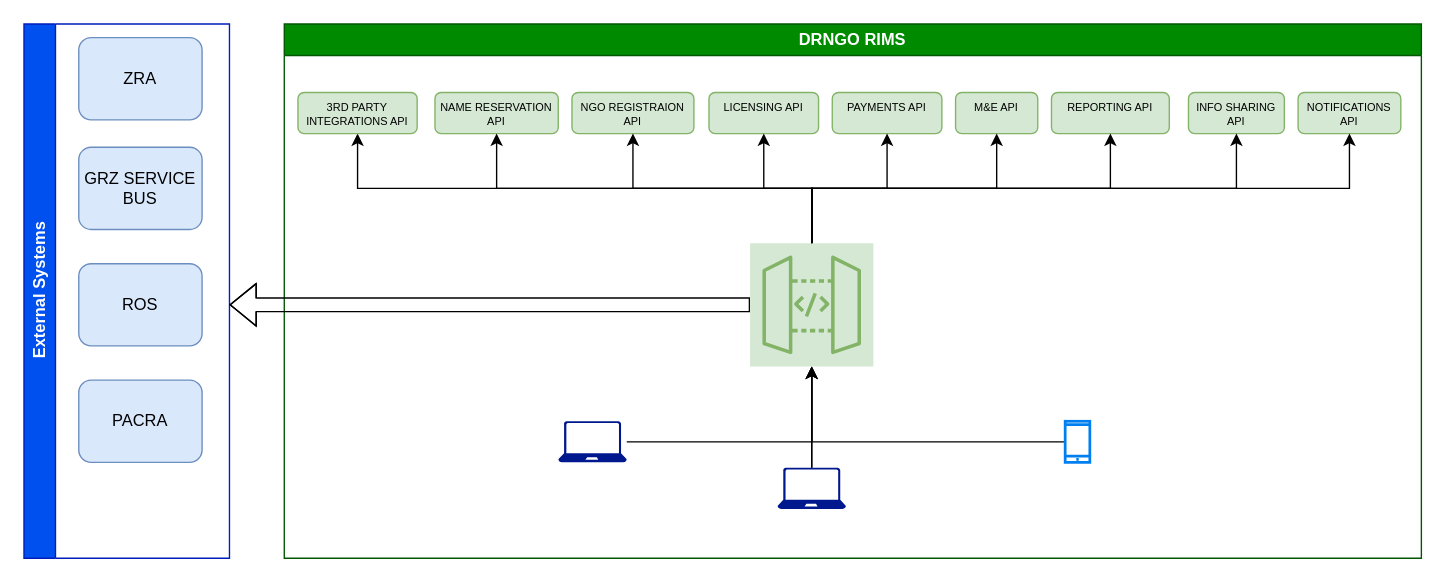
Image size: 1445x582. Some labels were removed from this diagram. The centre of each missing label's shape, as x and y in pixels:
"API GATEWAY" belongs at (811,304).
"MOBILE M&E" belongs at (1077,441).
"WEB CMS" belongs at (811,487).
"WEB PORTAL" belongs at (592,441).
